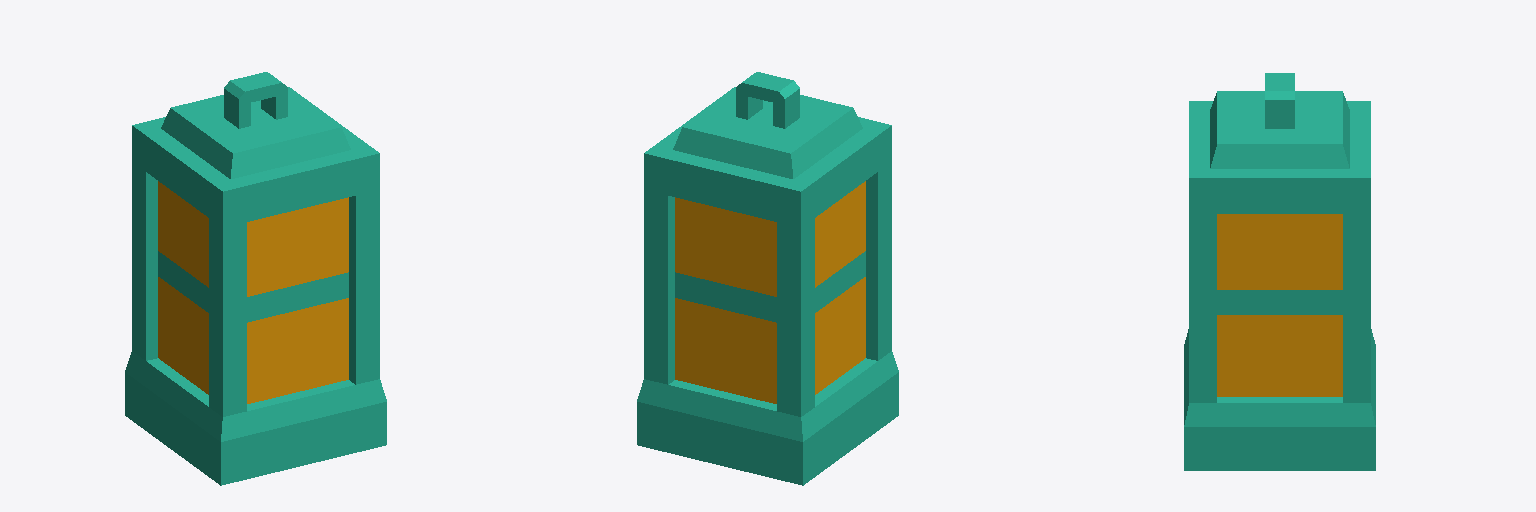
Rendered from lanternGlass.obj.
3 views of the same model, side by side, from view 1: azimuth 30°, elevation 25°; view 2: azimuth 150°, elevation 25°; view 3: azimuth 270°, elevation 25° (orthographic).
Parts seen in each view (by area): view 1: lanternGlass; view 2: lanternGlass; view 3: lanternGlass.
Boxes of the visible parts, box(x1,y1,x2,y2) form: lanternGlass: box(125, 72, 386, 485); lanternGlass: box(637, 72, 898, 485); lanternGlass: box(1184, 73, 1375, 470).
Size of the model in its own units: 0.1459 by 0.2923 by 0.1459.